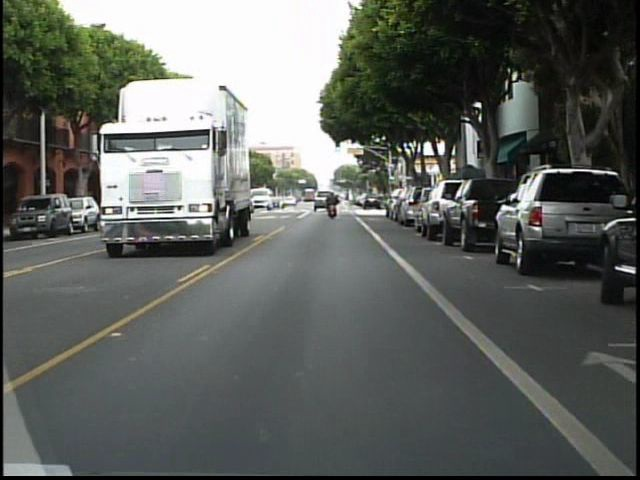person: (325, 192, 339, 223)
